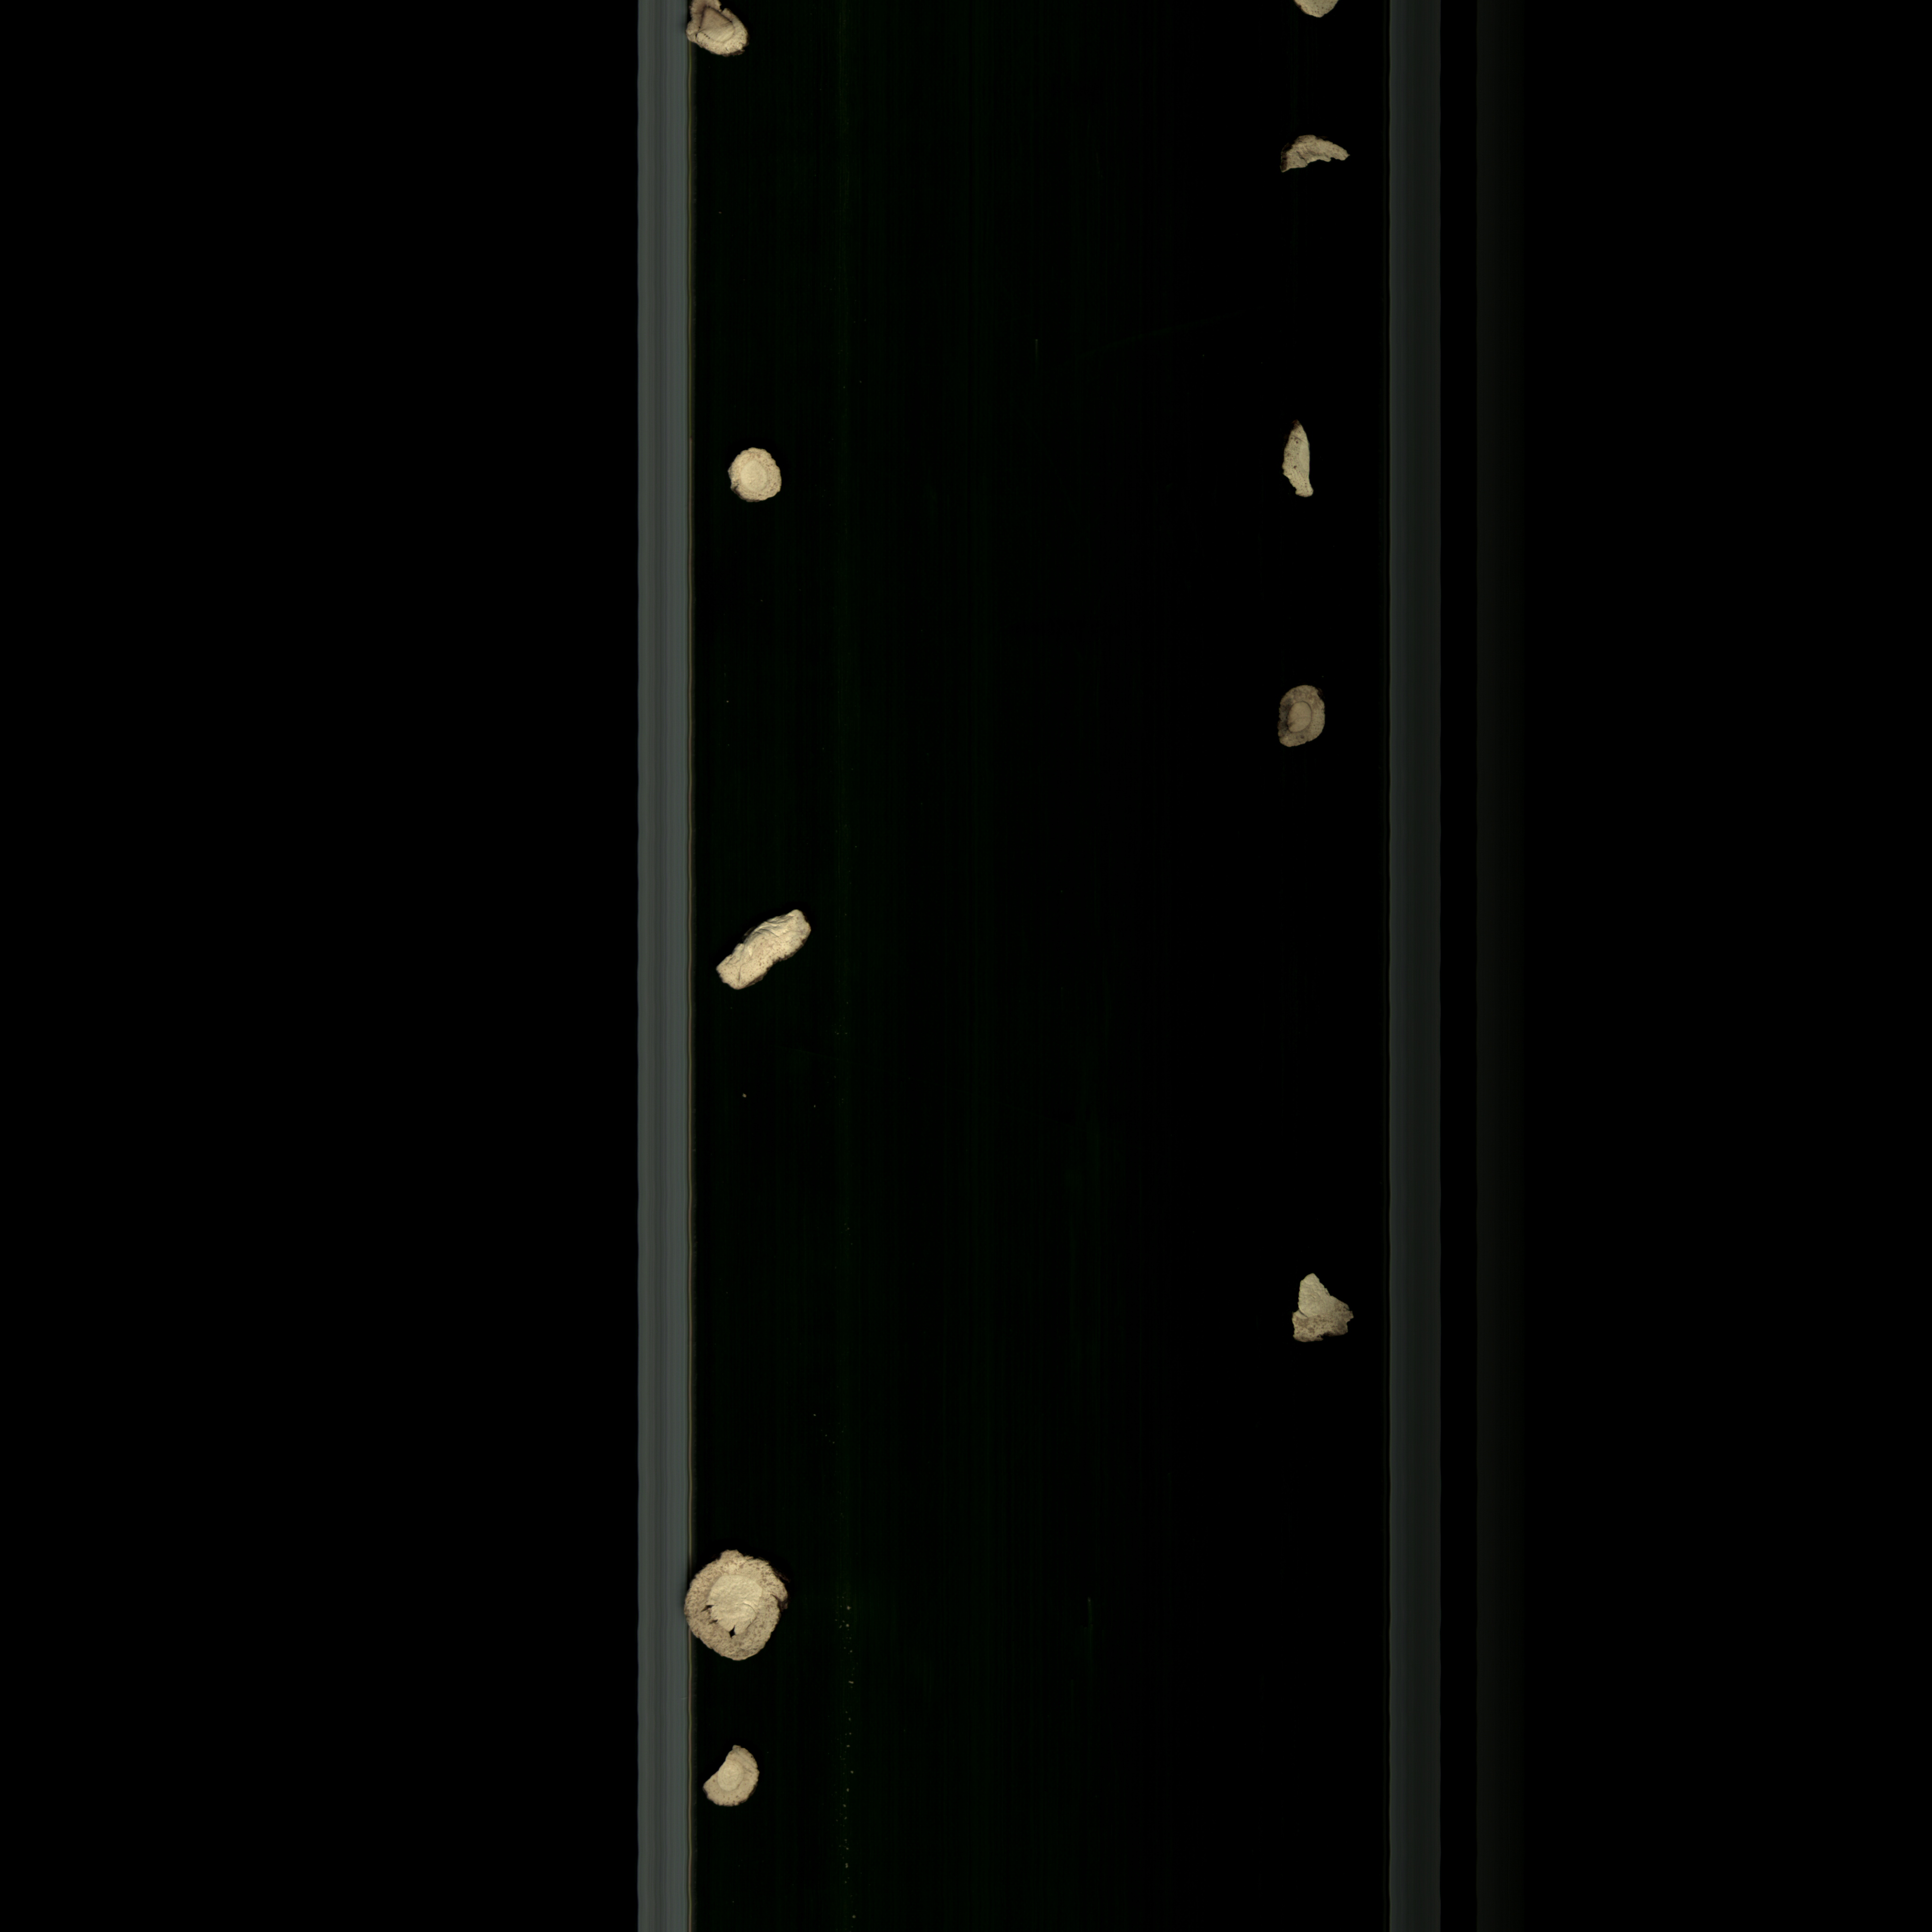debris: (1286, 1269, 1361, 1355), (695, 1743, 773, 1817)
distortion: (709, 899, 817, 1000)
dreg: (1276, 419, 1329, 506), (1279, 127, 1361, 180)
hole: (676, 1541, 794, 1670)
moldy: (1263, 676, 1345, 763), (686, 0, 768, 62)
